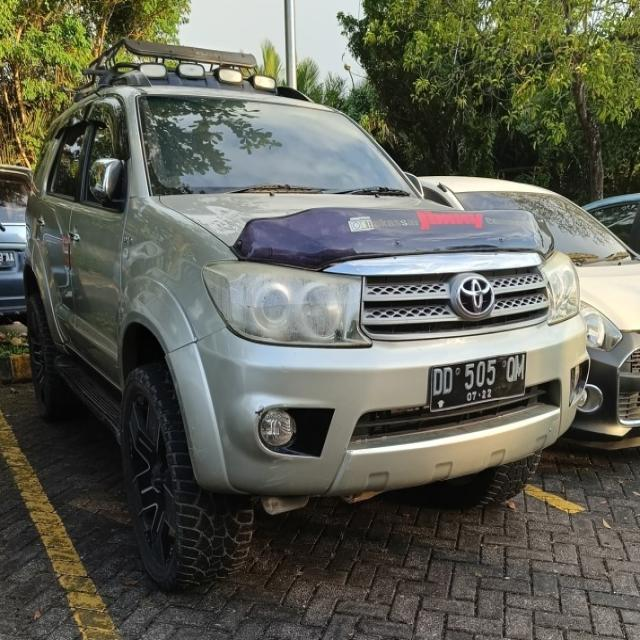plates: (430, 356, 530, 407)
